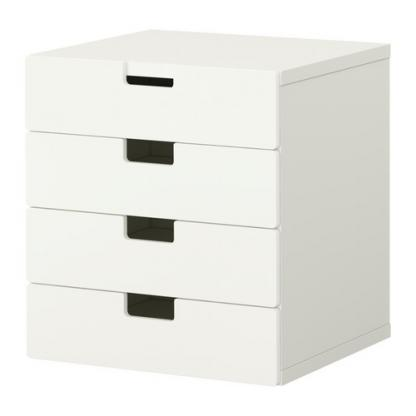Cabinet: (20, 24, 396, 390)
